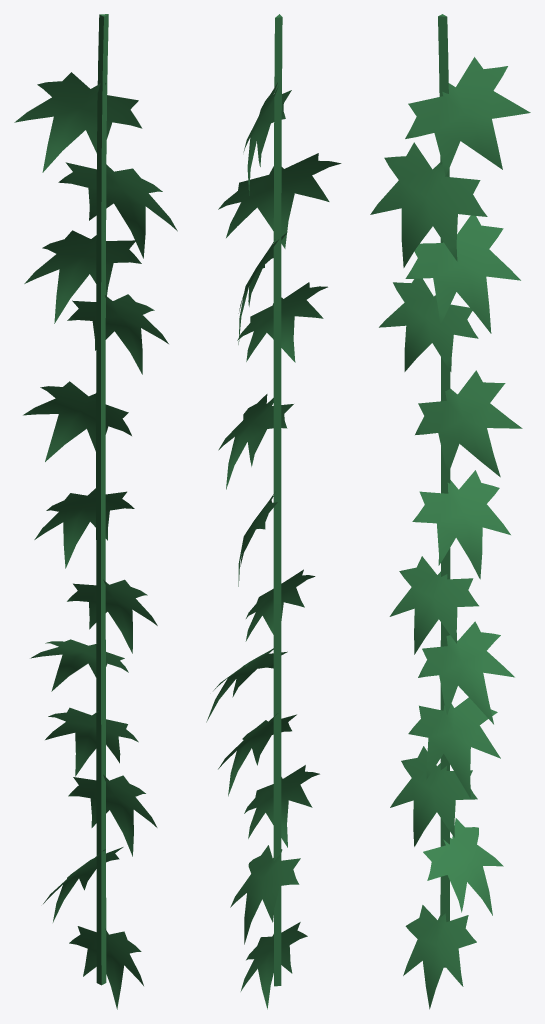
Rendered from vine_G_alangium.fbx.
3 views of the same model, side by side, from view 1: azimuth 90°, elevation 25°; view 2: azimuth 150°, elevation 25°; view 3: azimuth 270°, elevation 25° (orthographic).
Visible parts, largest first — view 1: triangle_profile_5, vine_G_alangium_A_leaf_B1, vine_G_alangium_A_leaf_B2, vine_G_alangium_A_leaf_B, vine_G_alangium_A_leaf_B4, vine_G_alangium_A_leaf_B3, vine_G_alangium_A_leaf_B5, vine_G_alangium_A_leaf_B9, vine_G_alangium_A_leaf_B6, vine_G_alangium_A_leaf_B8, vine_G_alangium_A_leaf_B11, vine_G_alangium_A_leaf_B7 (+1 smaller); view 2: triangle_profile_5, vine_G_alangium_A_leaf_B, vine_G_alangium_A_leaf_B10, vine_G_alangium_A_leaf_B3, vine_G_alangium_A_leaf_B4, vine_G_alangium_A_leaf_B9, vine_G_alangium_A_leaf_B11, vine_G_alangium_A_leaf_B6, vine_G_alangium_A_leaf_B8, vine_G_alangium_A_leaf_B1, vine_G_alangium_A_leaf_B7, vine_G_alangium_A_leaf_B2 (+1 smaller); view 3: vine_G_alangium_A_leaf_B1, vine_G_alangium_A_leaf_B, vine_G_alangium_A_leaf_B2, vine_G_alangium_A_leaf_B4, vine_G_alangium_A_leaf_B5, vine_G_alangium_A_leaf_B7, vine_G_alangium_A_leaf_B3, vine_G_alangium_A_leaf_B8, vine_G_alangium_A_leaf_B6, vine_G_alangium_A_leaf_B9, vine_G_alangium_A_leaf_B11, vine_G_alangium_A_leaf_B10 (+1 smaller).
Boxes of the visible parts, bbox=[...] form: triangle_profile_5: bbox=[96, 14, 108, 985]; vine_G_alangium_A_leaf_B1: bbox=[14, 72, 142, 172]; vine_G_alangium_A_leaf_B2: bbox=[24, 230, 141, 323]; vine_G_alangium_A_leaf_B: bbox=[58, 162, 177, 258]; vine_G_alangium_A_leaf_B4: bbox=[23, 381, 131, 461]; vine_G_alangium_A_leaf_B3: bbox=[67, 294, 168, 374]; vine_G_alangium_A_leaf_B5: bbox=[34, 488, 134, 568]; vine_G_alangium_A_leaf_B9: bbox=[68, 774, 157, 856]; vine_G_alangium_A_leaf_B6: bbox=[67, 579, 157, 653]; vine_G_alangium_A_leaf_B8: bbox=[45, 707, 138, 776]; vine_G_alangium_A_leaf_B11: bbox=[69, 926, 143, 1009]; vine_G_alangium_A_leaf_B7: bbox=[30, 639, 128, 691]; triangle_profile_5: bbox=[273, 14, 282, 986]; vine_G_alangium_A_leaf_B: bbox=[218, 153, 341, 248]; vine_G_alangium_A_leaf_B10: bbox=[230, 845, 300, 944]; vine_G_alangium_A_leaf_B3: bbox=[237, 282, 327, 362]; vine_G_alangium_A_leaf_B4: bbox=[218, 394, 293, 489]; vine_G_alangium_A_leaf_B9: bbox=[244, 765, 319, 847]; vine_G_alangium_A_leaf_B11: bbox=[240, 922, 307, 1009]; vine_G_alangium_A_leaf_B6: bbox=[245, 569, 315, 641]; vine_G_alangium_A_leaf_B8: bbox=[218, 713, 296, 796]; vine_G_alangium_A_leaf_B1: bbox=[243, 82, 291, 195]; vine_G_alangium_A_leaf_B7: bbox=[206, 648, 287, 722]; vine_G_alangium_A_leaf_B2: bbox=[238, 232, 287, 344]; vine_G_alangium_A_leaf_B1: bbox=[405, 57, 530, 175]; vine_G_alangium_A_leaf_B: bbox=[370, 142, 487, 267]; vine_G_alangium_A_leaf_B2: bbox=[405, 215, 520, 333]; vine_G_alangium_A_leaf_B4: bbox=[415, 370, 522, 477]; vine_G_alangium_A_leaf_B5: bbox=[412, 470, 510, 579]; vine_G_alangium_A_leaf_B7: bbox=[418, 621, 514, 724]; vine_G_alangium_A_leaf_B3: bbox=[379, 278, 478, 371]; vine_G_alangium_A_leaf_B8: bbox=[408, 697, 500, 798]; vine_G_alangium_A_leaf_B6: bbox=[389, 556, 478, 654]; vine_G_alangium_A_leaf_B9: bbox=[390, 746, 477, 846]; vine_G_alangium_A_leaf_B11: bbox=[403, 905, 476, 1009]; vine_G_alangium_A_leaf_B10: bbox=[423, 818, 503, 915].
Bounding box in the file's own units: 22.92 × 257 × 37.99.
